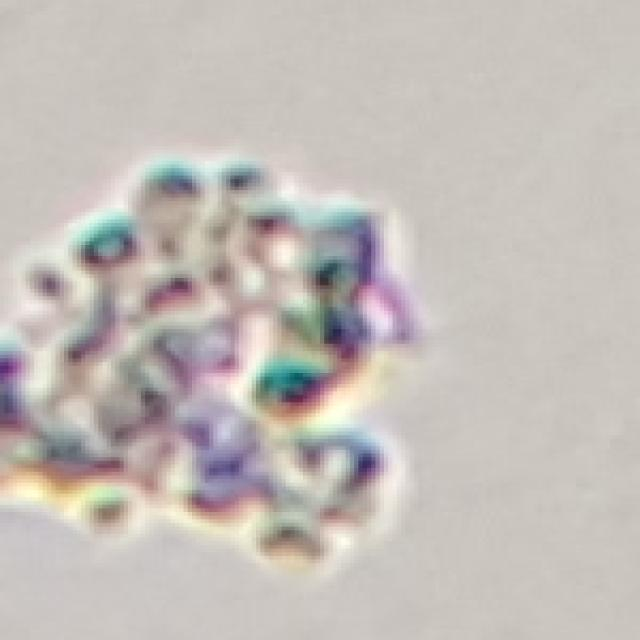non-sperm: (0, 157, 445, 555)
